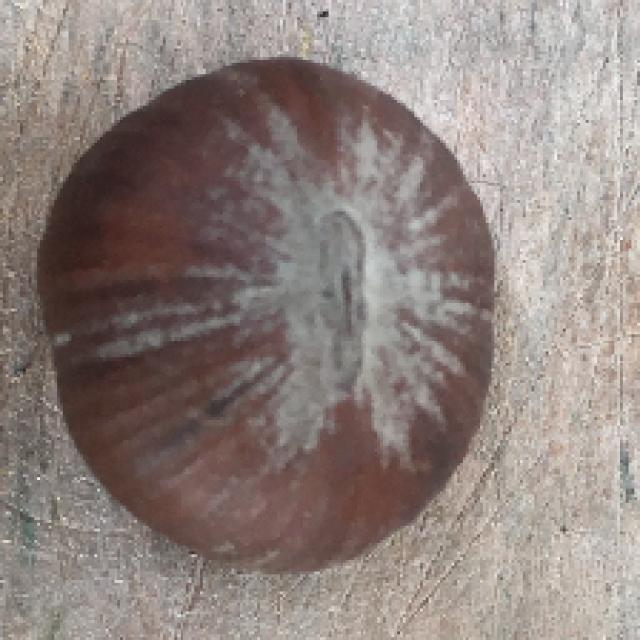damagedHazelnut: (36, 53, 504, 570)
